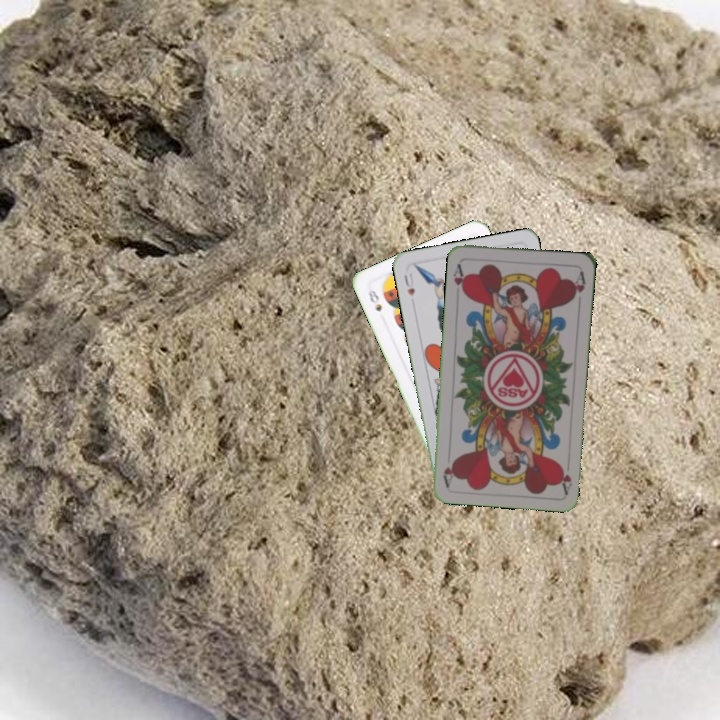HA: (555, 455, 575, 496), (449, 260, 469, 299)
HU: (400, 267, 417, 299)
S8: (364, 286, 385, 314)
